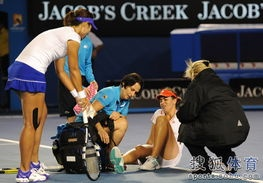falling: (113, 81, 185, 174)
